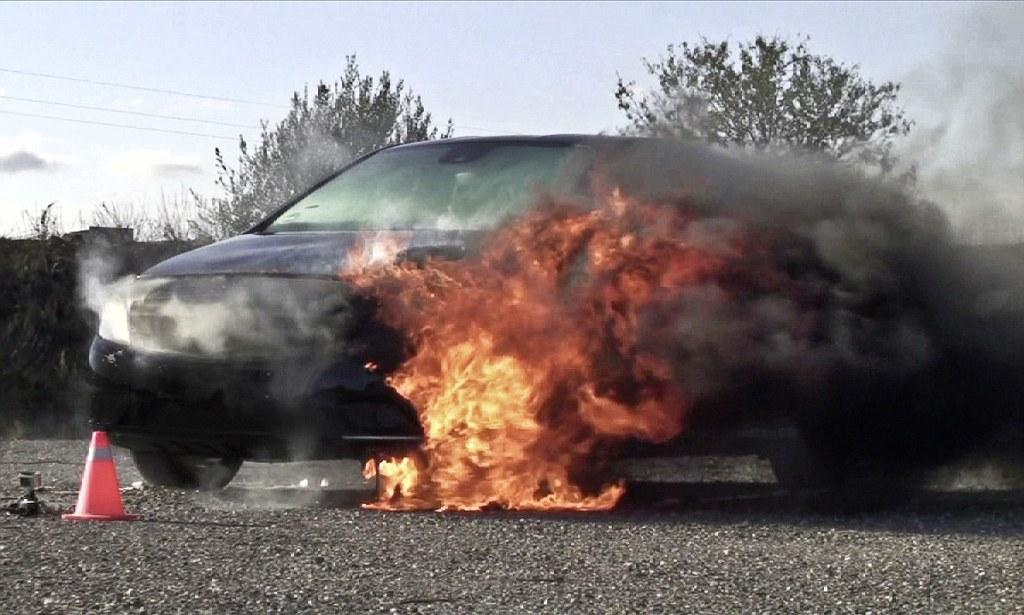fire: (343, 189, 704, 518)
smoke: (705, 142, 1024, 490), (75, 237, 340, 382), (539, 113, 703, 205), (924, 19, 1024, 139), (206, 442, 321, 510), (364, 187, 508, 230)
